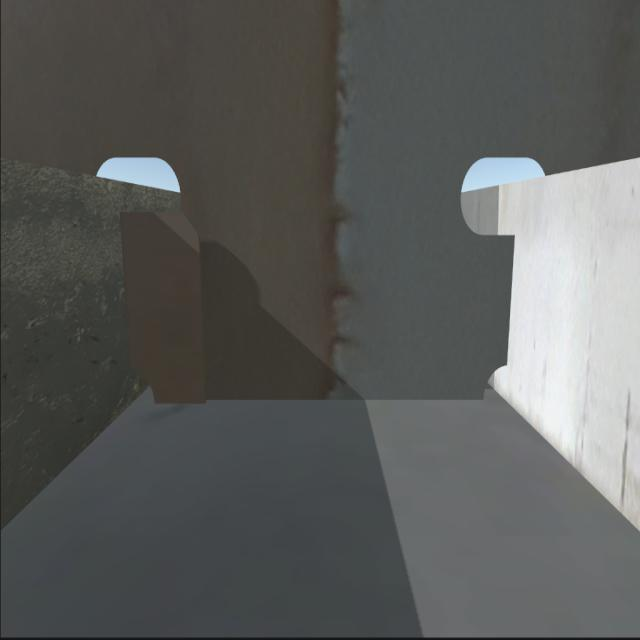fillet_hole: (480, 370, 514, 404), (123, 374, 158, 406)
fillet_yong_jeop_jang: (160, 398, 481, 402)
longi_yong_jeop_jang: (114, 213, 132, 367), (505, 232, 519, 363)
plate_CP03: (121, 208, 205, 401)
